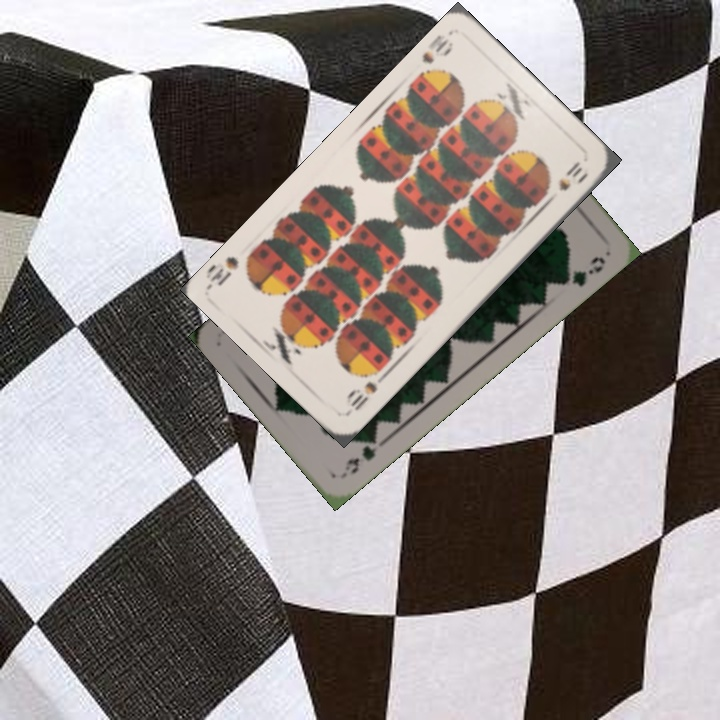G9: (338, 430, 388, 480)
S10: (413, 30, 456, 82), (345, 377, 380, 414)
